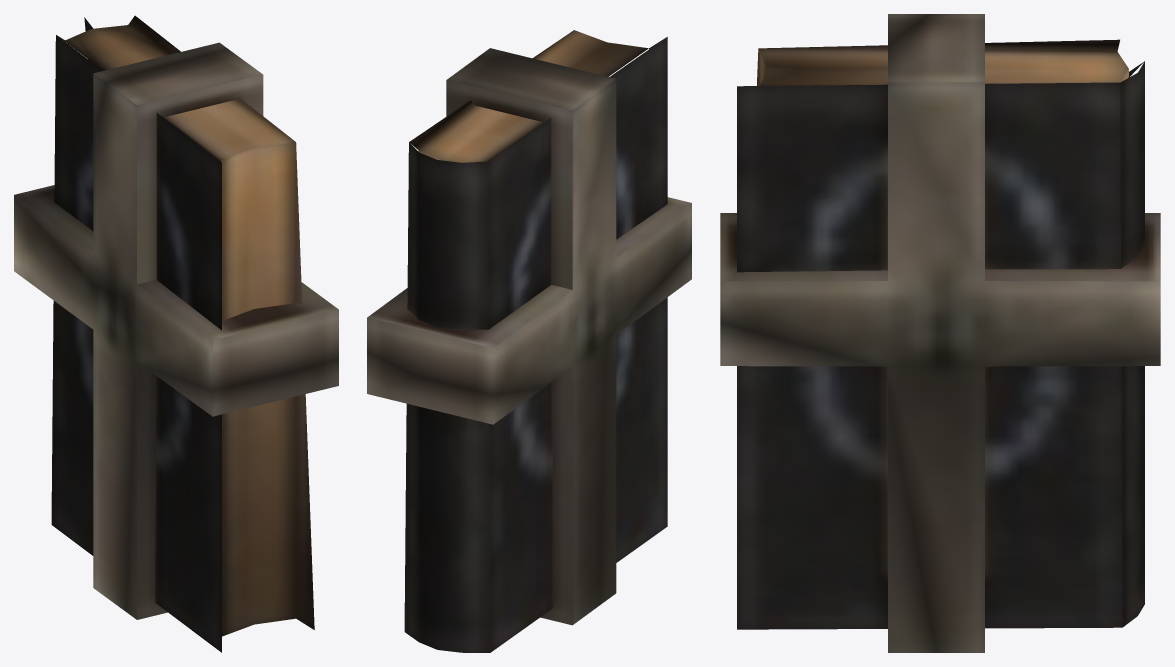
Rendered from hierophantBook.glb.
3 views of the same model, side by side, from view 1: azimuth 30°, elevation 25°; view 2: azimuth 150°, elevation 25°; view 3: azimuth 270°, elevation 25° (orthographic). The views are drawn at different scales.
Parts seen in each view (by area): view 1: hierophantBook; view 2: hierophantBook; view 3: hierophantBook.
Boxes of the visible parts, box(x1,y1,x2,y2) form: hierophantBook: box(14, 15, 338, 652); hierophantBook: box(367, 30, 691, 652); hierophantBook: box(720, 14, 1160, 652).
Bounding box in the file's own units: 0.1 × 0.39 × 0.2728.
Materials: 1 (1 with a texture image).
